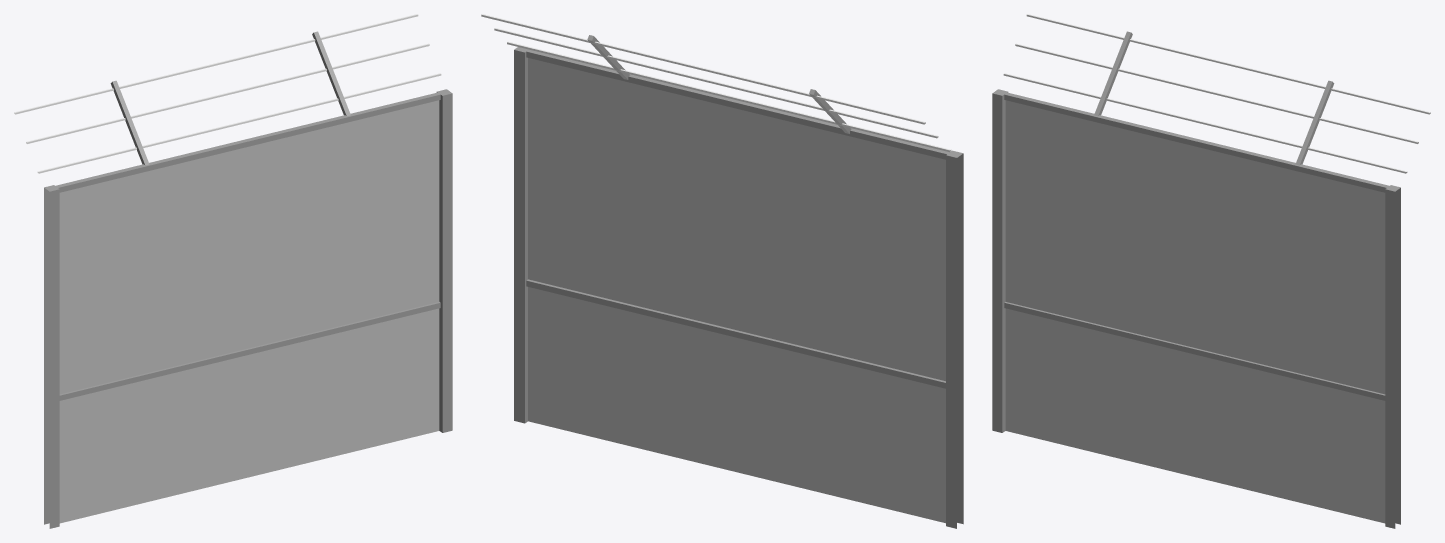
The picture shows the model from 3 angles, left to right: view 1: azimuth 30°, elevation 25°; view 2: azimuth 150°, elevation 25°; view 3: azimuth 330°, elevation 25°; orthographic projection. The views are drawn at different scales.
Parts seen in each view (by area): view 1: SM_Grid_400; view 2: SM_Grid_400; view 3: SM_Grid_400.
Boxes of the visible parts, x1,y1,x2,y2 form: SM_Grid_400: (14,14,452,528); SM_Grid_400: (481,14,963,528); SM_Grid_400: (992,14,1430,528).
Size of the model in its own units: 400 by 64.83 by 377.
